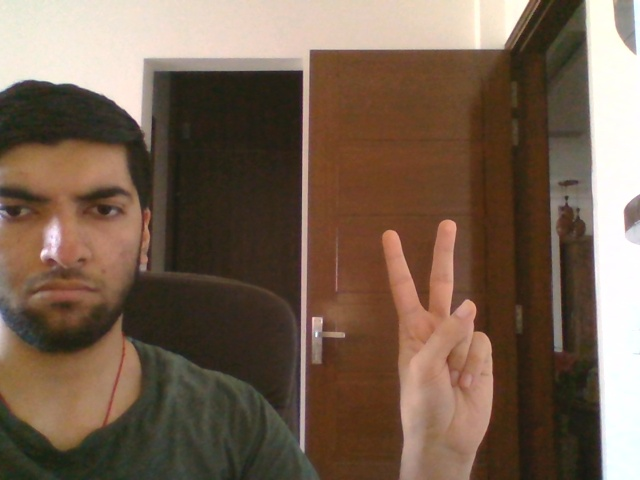LetterK: (380, 218, 495, 461)
